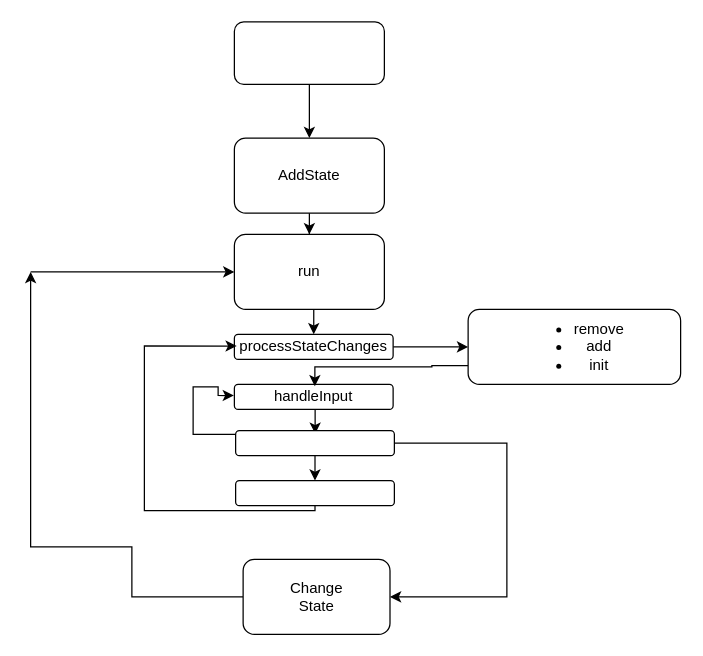
Some shapes in this 703 by 656 pixel diagram are drawn without their labels. The shapes that lost their labels are listed below. From the top down, each one's centre as x and y in pixels, then its label:
point (308, 52): Game
point (314, 442): update
point (314, 492): render
